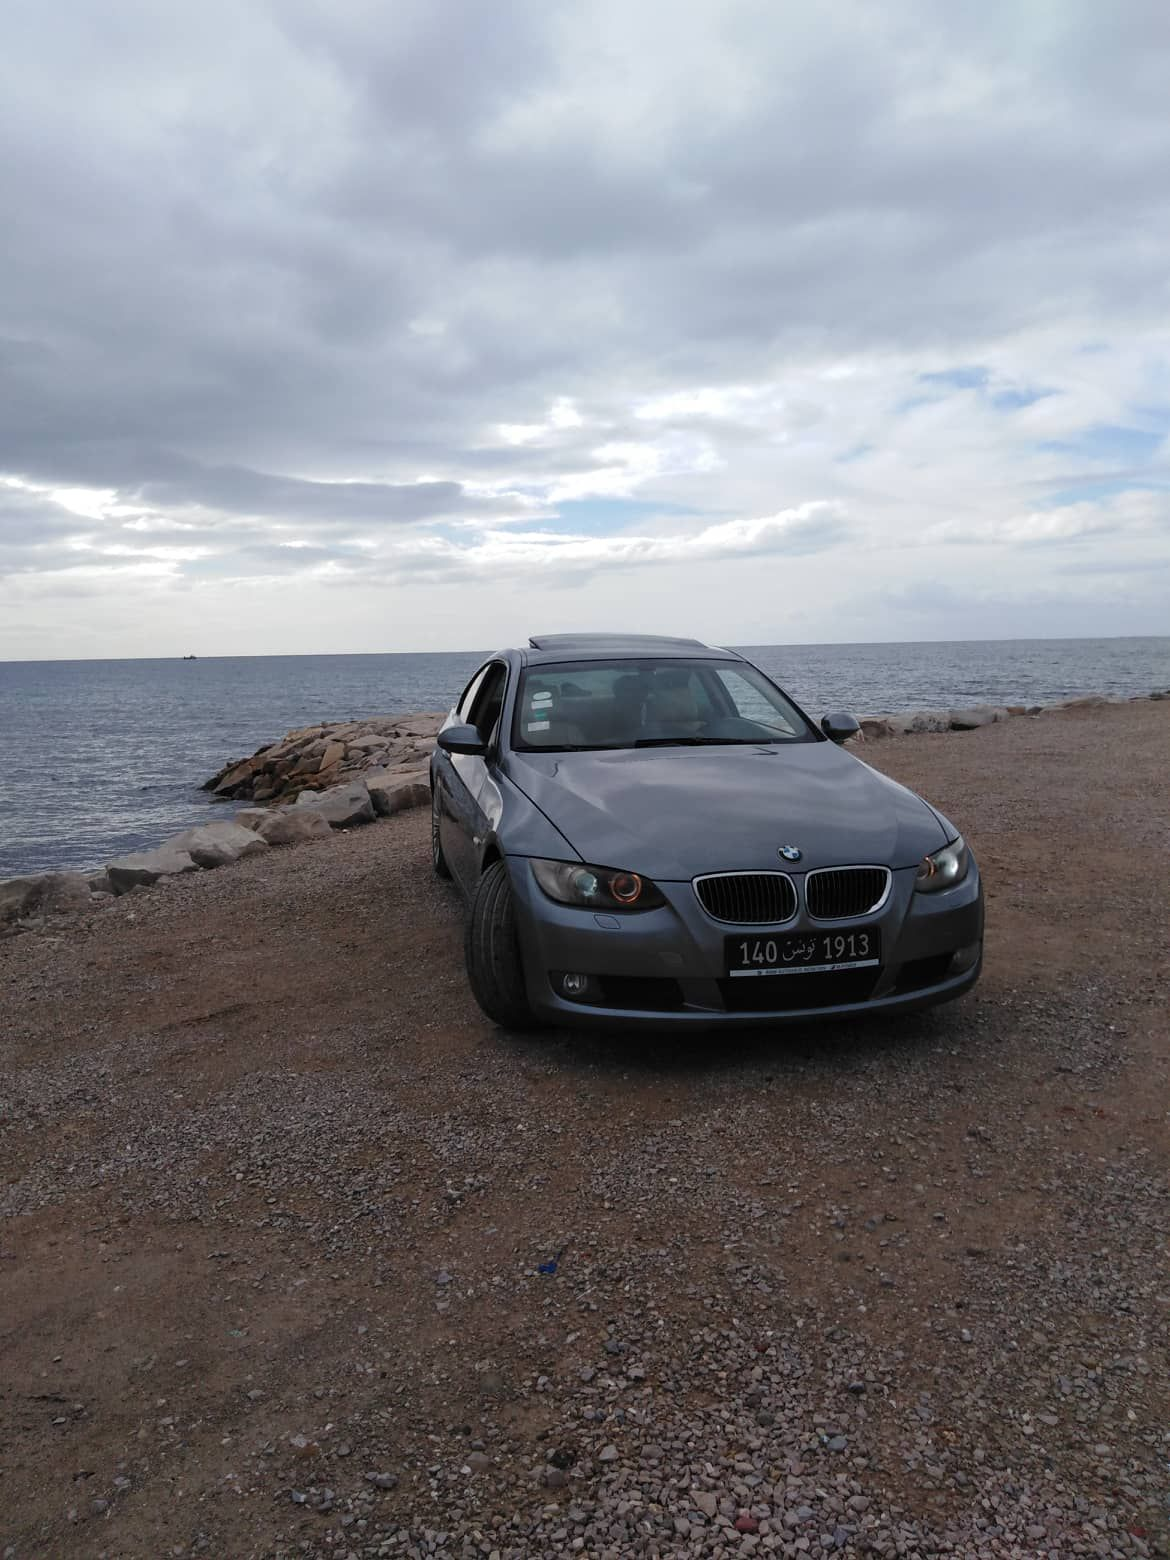LP: (723, 928, 881, 970)
